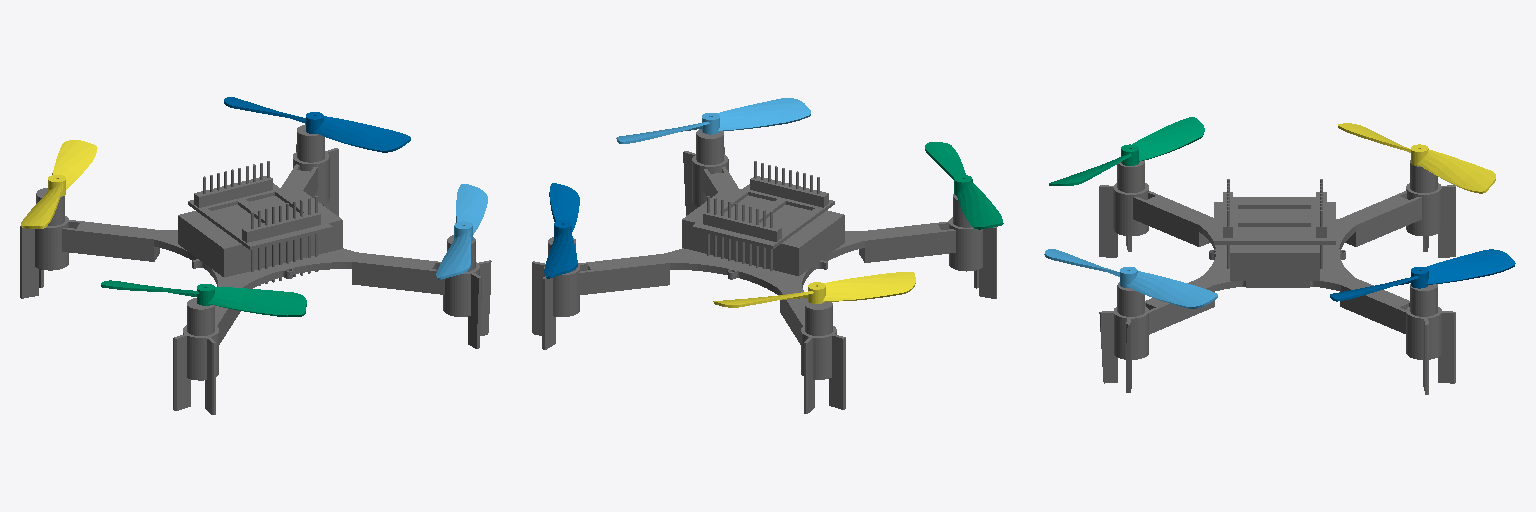
robot.urdf — cf2:
<?xml version="1.0" ?>

<robot name="cf2">

  <properties arm="0.12" kf="3.16e-10" km="7.94e-12" thrust2weight="2.25" max_speed_kmh="30" gnd_eff_coeff="11.36859" prop_radius="2.31348e-2" drag_coeff_xy="9.1785e-3" drag_coeff_z="10.311e-3" dw_coeff_1="276700.18" dw_coeff_2=".16" dw_coeff_3="-.11" />

  <link name="base_link"> 

    <inertial>
      <origin rpy="0 0 0" xyz="0 0 0"/>
      <mass value="0.5"/>
      <inertia ixx="1.4e-3" ixy="0.0" ixz="0.0" iyy="1.4e-3" iyz="0.0" izz="1.4e-3"/>
    </inertial>

    <!-- links>
      <carlos url="https://arxiv.org/pdf/1608.05786.pdf" />
      <julian url="https://www.research-collection.ethz.ch/handle/20.500.11850/214143" />
      <mit url="http://groups.csail.mit.edu/robotics-center/public_papers/Landry15.pdf" />
    </links -->

    <visual>
      <origin rpy="0 0 0" xyz="0 0 0"/>
      <geometry>
        <mesh filename="./body.obj" scale="1 1 1"/>
      </geometry> 
      <material name="grey">
        <color rgba=".5 .5 .5 1"/>
      </material> 
    </visual>

    <collision>
      <origin rpy="0 0 0" xyz="0 0 0"/>
      <geometry>
        <cylinder radius=".06" length=".025"/>
      </geometry>
    </collision>  

  </link>

  <link name="prop0_link">
    <inertial>
      <origin rpy="0 0 0" xyz="0.1 -0.1 0"/>
      <mass value="0"/>
      <inertia ixx="0" ixy="0" ixz="0" iyy="0" iyz="0" izz="0"/>
    </inertial>
    <visual>
      <origin rpy="0 0 0" xyz="0.0323 -0.0323 0.0132"/>
      <geometry>
          <mesh filename="./propeller0.obj"/>
      </geometry> 
    </visual>

  </link>
  <joint name="prop0_joint" type="fixed">
    <parent link="base_link"/>
    <child link="prop0_link"/>
  </joint>

  <link name="prop1_link">
    <inertial>
      <origin rpy="0 0 0" xyz="-0.1 -0.1 0"/>
      <mass value="0"/>
      <inertia ixx="0" ixy="0" ixz="0" iyy="0" iyz="0" izz="0"/>
    </inertial>
    <visual>
      <origin rpy="0 0 0" xyz="-0.0323 -0.0323 0.0132"/>
      <geometry>
          <mesh filename="./propeller1.obj"/>
      </geometry> 
    </visual>
  </link>
  <joint name="prop1_joint" type="fixed">
    <parent link="base_link"/>
    <child link="prop1_link"/>
  </joint>

  <link name="prop2_link">
    <inertial>
      <origin rpy="0 0 0" xyz="-0.1 0.1 0"/>
      <mass value="0"/>
      <inertia ixx="0" ixy="0" ixz="0" iyy="0" iyz="0" izz="0"/>
    </inertial>
    <visual>
      <origin rpy="0 0 0" xyz="-0.0323 0.0323 0.0132"/>
      <geometry>
          <mesh filename="./propeller2.obj"/>
      </geometry> 
    </visual>
  </link>
  <joint name="prop2_joint" type="fixed">
    <parent link="base_link"/>
    <child link="prop2_link"/>
  </joint>

  <link name="prop3_link">
    <inertial>
      <origin rpy="0 0 0" xyz="0.1 0.1 0"/>
      <mass value="0"/>
      <inertia ixx="0" ixy="0" ixz="0" iyy="0" iyz="0" izz="0"/>
    </inertial>
    <visual>
      <origin rpy="0 0 0" xyz="0.0323 0.0323 0.0132"/>
      <geometry>
          <mesh filename="./propeller3.obj"/>
      </geometry> 
    </visual>
  </link>
  <joint name="prop3_joint" type="fixed">
    <parent link="base_link"/>
    <child link="prop3_link"/>
  </joint>

  <link name="center_of_mass_link">
    <inertial>
      <origin rpy="0 0 0" xyz="0 0 0"/>
      <mass value="0"/>
      <inertia ixx="0" ixy="0" ixz="0" iyy="0" iyz="0" izz="0"/>
    </inertial>
  </link>
  <joint name="center_of_mass_joint" type="fixed">
    <parent link="base_link"/>
    <child link="center_of_mass_link"/>
  </joint>

</robot>

--- What the picture shows (computed from the rendered views, not written in the file) ---
The picture shows the robot from 3 angles, left to right: view 1: azimuth 30°, elevation 25°; view 2: azimuth 150°, elevation 25°; view 3: azimuth 270°, elevation 25°; orthographic projection.
Robot: cf2 — 6 links, 5 joints (5 fixed); root link base_link; default pose: every joint at zero.
Visible links, largest first — view 1: base_link, prop1_link, prop3_link, prop2_link, prop0_link; view 2: base_link, prop0_link, prop2_link, prop1_link, prop3_link; view 3: base_link, prop3_link, prop2_link, prop0_link, prop1_link.
Boxes of the visible links, bbox=[...] form: base_link: bbox=[20, 124, 491, 414]; prop1_link: bbox=[101, 280, 306, 316]; prop3_link: bbox=[224, 97, 410, 152]; prop2_link: bbox=[21, 140, 97, 228]; prop0_link: bbox=[436, 184, 487, 279]; base_link: bbox=[532, 129, 996, 413]; prop0_link: bbox=[616, 98, 810, 143]; prop2_link: bbox=[713, 272, 915, 307]; prop1_link: bbox=[925, 142, 1003, 229]; prop3_link: bbox=[544, 183, 579, 278]; base_link: bbox=[1099, 160, 1455, 394]; prop3_link: bbox=[1330, 249, 1515, 301]; prop2_link: bbox=[1338, 123, 1495, 193]; prop0_link: bbox=[1044, 249, 1217, 308]; prop1_link: bbox=[1049, 117, 1204, 185].
Size in the robot's own frame: 0.0971 by 0.1051 by 0.031 metres.
Meshes: 5 distinct files referenced, 5 mesh visuals loaded (5 OBJ).
